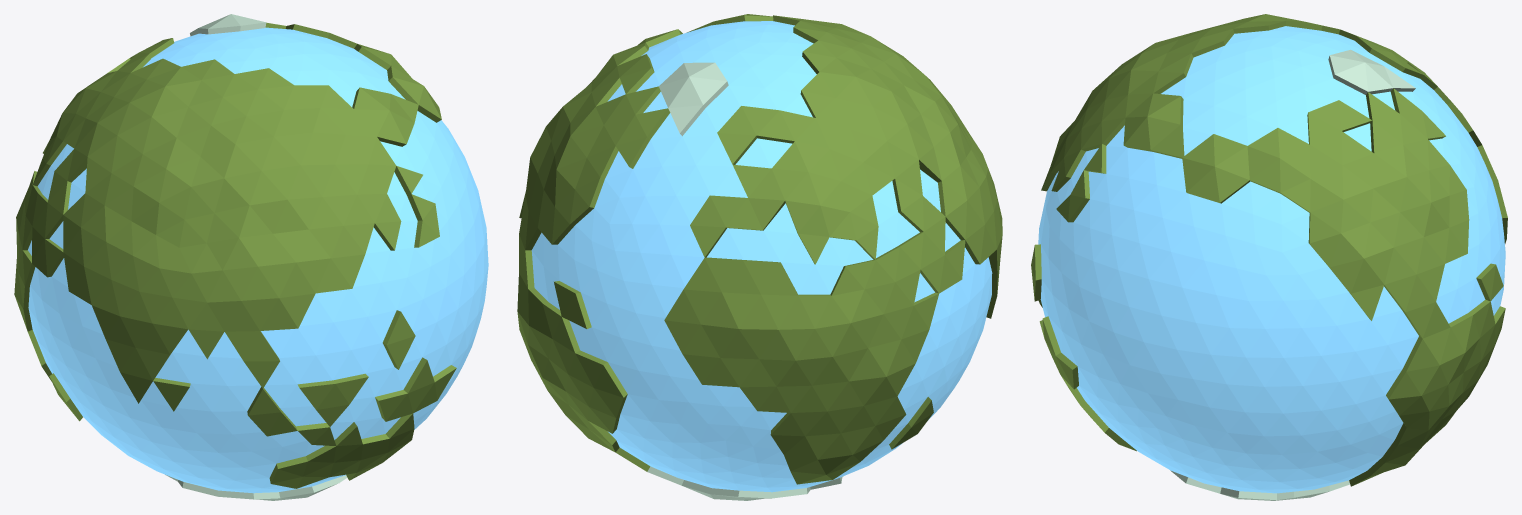
The model's file is earth.glb.
3 renders of one model, left to right at view 1: azimuth 30°, elevation 25°; view 2: azimuth 150°, elevation 25°; view 3: azimuth 270°, elevation 25°, orthographic.
Visible parts, largest first — view 1: URF-Height; view 2: URF-Height; view 3: URF-Height.
Boxes of the visible parts, x1,y1,x2,y2 form: URF-Height: (14, 14, 488, 500); URF-Height: (517, 14, 1002, 500); URF-Height: (1031, 14, 1507, 500).
Bounding box in the file's own units: 1.59 × 1.63 × 1.61.
